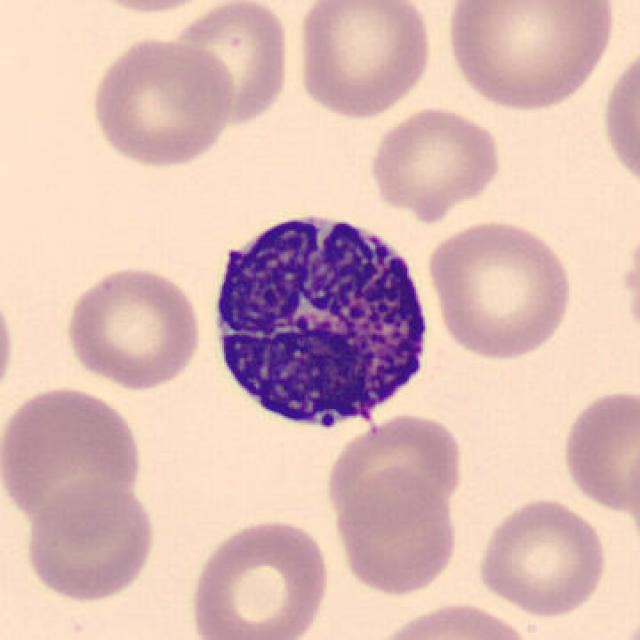Basophil: (199, 194, 443, 444)
RBC: (0, 381, 148, 532), (425, 215, 576, 363), (87, 34, 238, 171), (439, 0, 621, 113), (60, 261, 206, 391), (187, 515, 334, 640), (322, 409, 468, 531), (20, 478, 160, 605), (331, 468, 462, 600), (292, 0, 436, 120), (473, 494, 610, 619), (364, 102, 505, 222), (167, 0, 293, 127), (556, 384, 638, 516), (368, 599, 535, 640), (597, 41, 640, 198), (0, 275, 20, 416), (620, 213, 640, 353), (69, 0, 231, 16), (620, 603, 638, 640)
